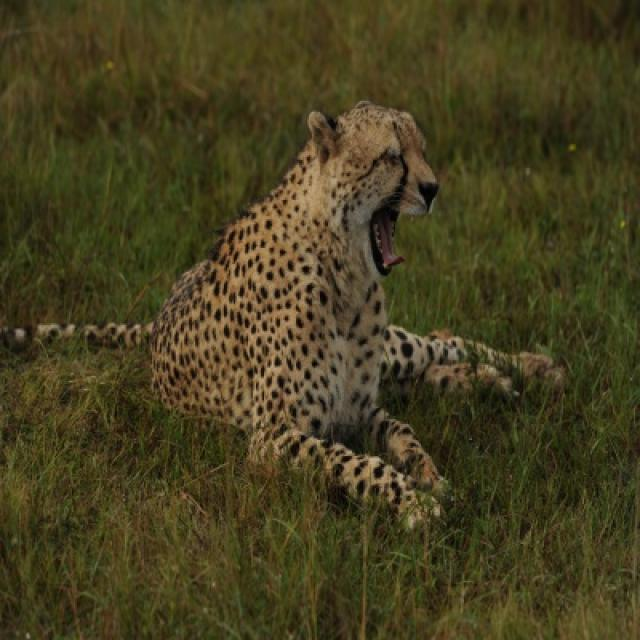Cheetah: (152, 101, 558, 526)
